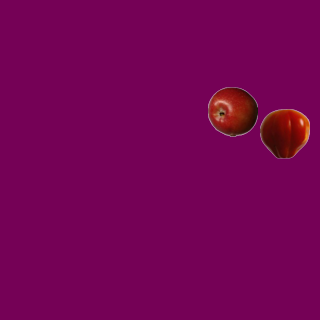Apple Braeburn: (207, 86, 257, 136)
Tomato 1: (259, 108, 309, 158)
